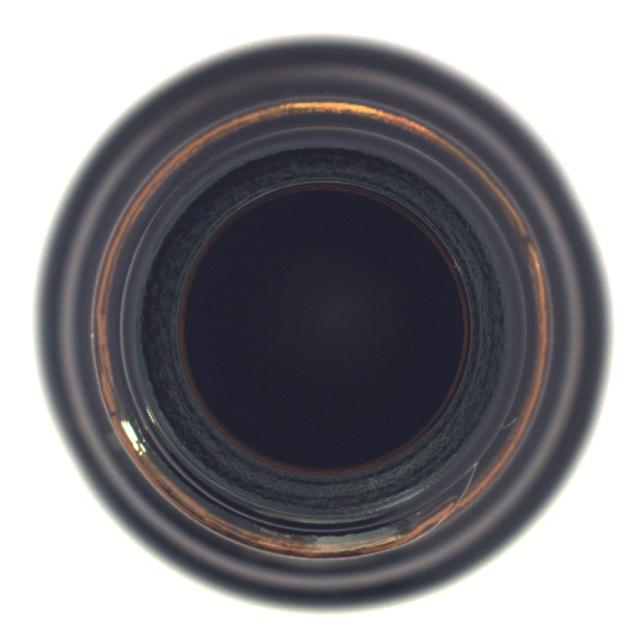bottle-good: (38, 36, 606, 611)
